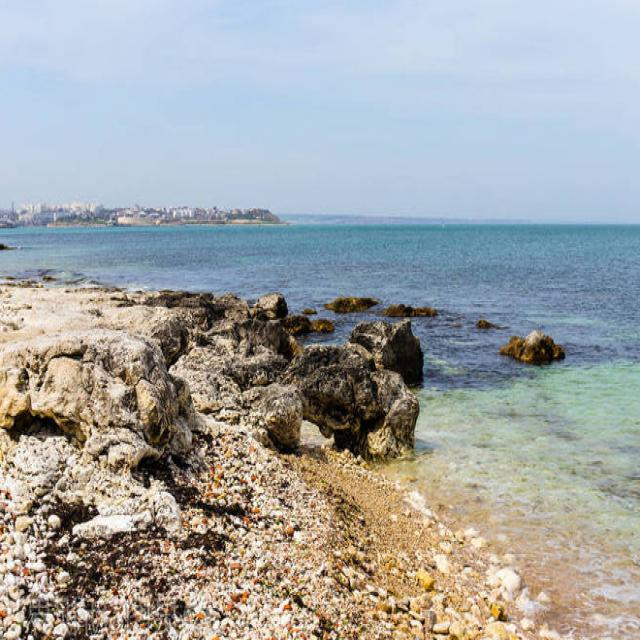reef: (201, 261, 564, 394)
